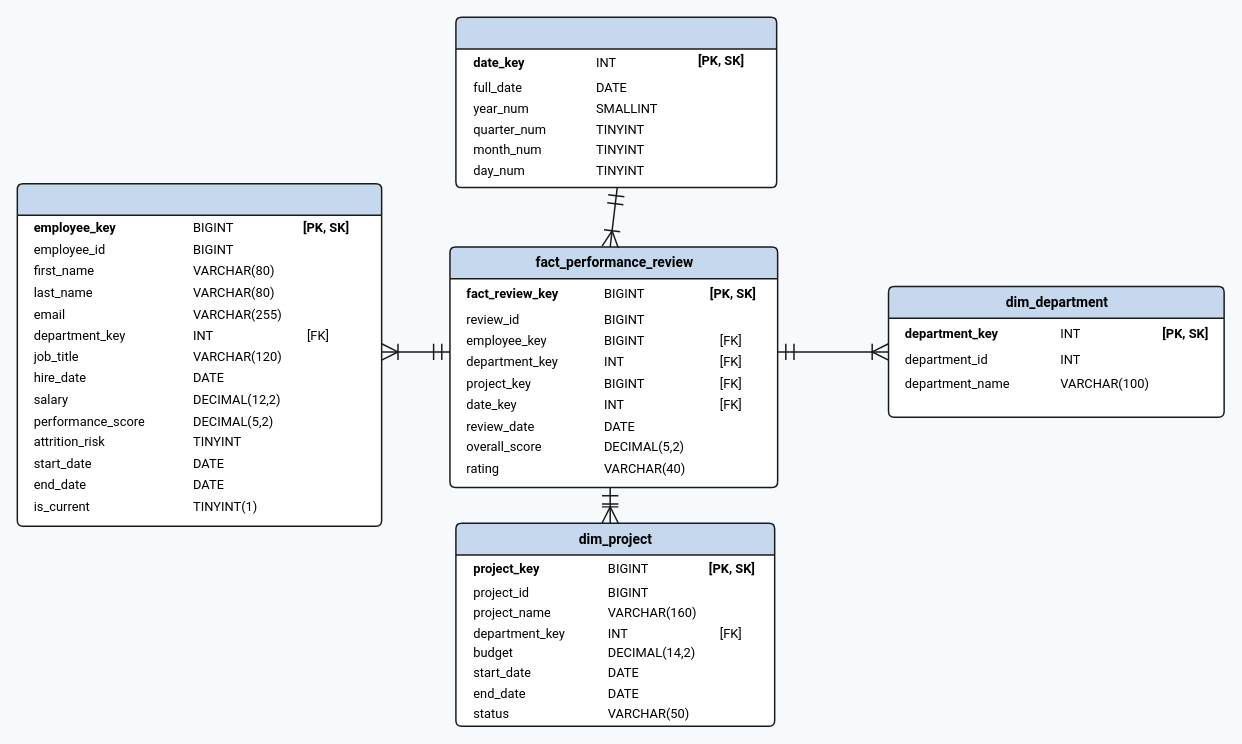
The diagram is 1242 pixels wide and 744 high, and some of its shapes have lost their labels. The shapes that lost their labels are listed below. From the top down, each one's box as (x1, y1, x2, y2) in pixels, then its label:
(455, 16, 777, 188): dim_date
(16, 182, 382, 526): dim_employee
